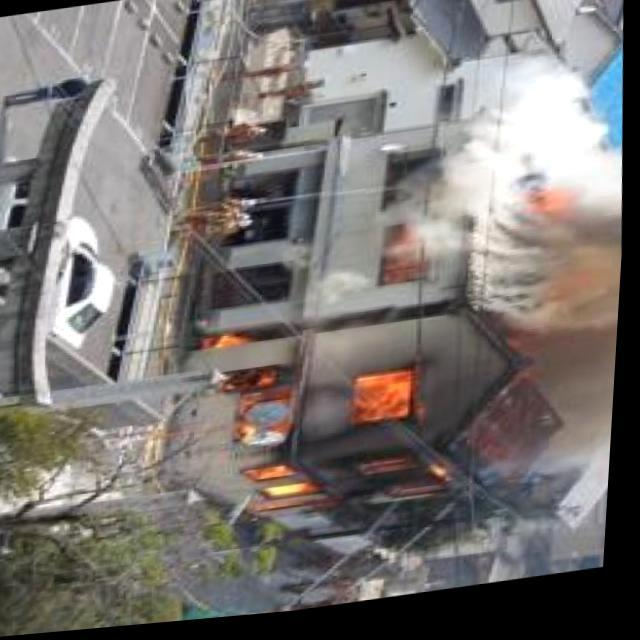fire: (197, 286, 478, 558)
